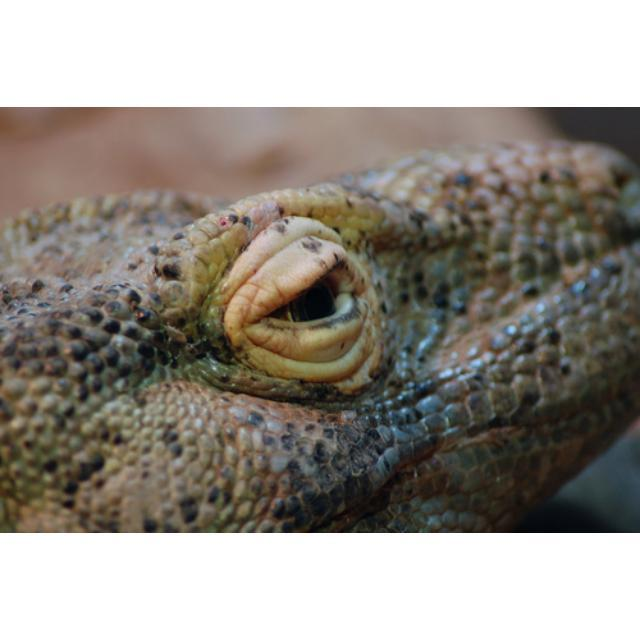KomodoDragon: (1, 132, 638, 531)
